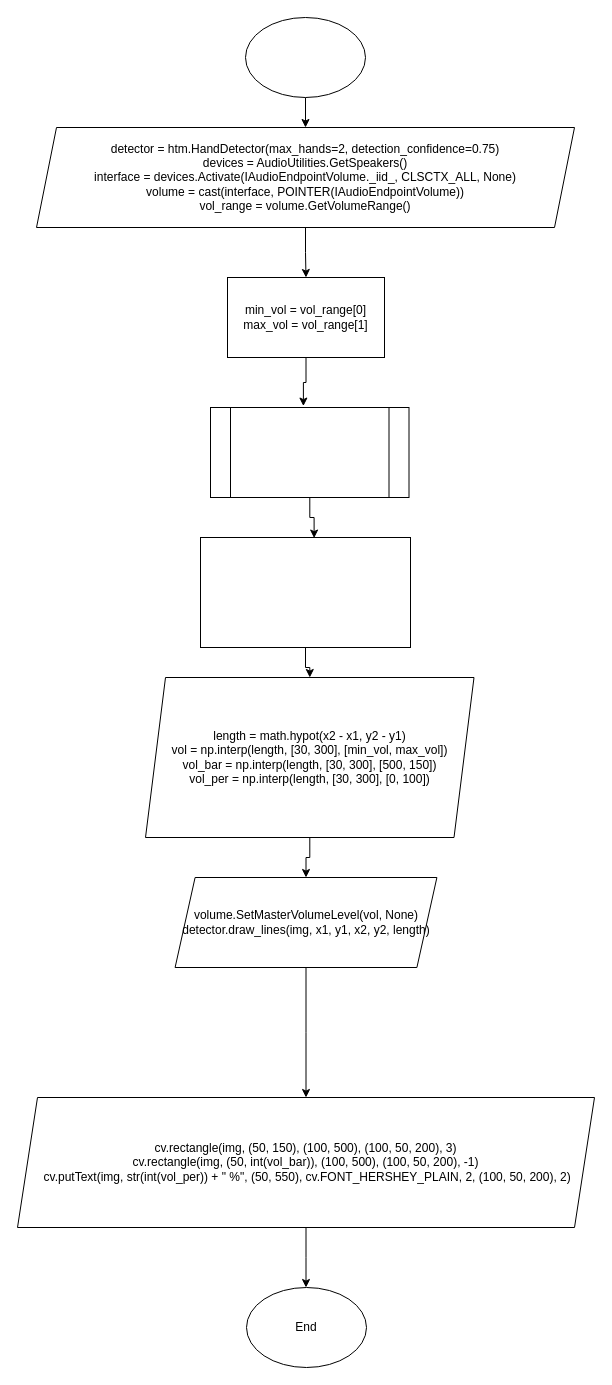
Some shapes in this 612 by 1385 pixel diagram are drawn without their labels. Each missing label, with the box of its shape:
def vol_control(img, lm_list): (210, 406, 409, 498)
Start: (244, 16, 366, 98)
x1, y1 = lm_list[4][1], lm_list[4][2] x2, y2 = lm_list[8][1], lm_list[8][2]: (200, 536, 410, 648)
